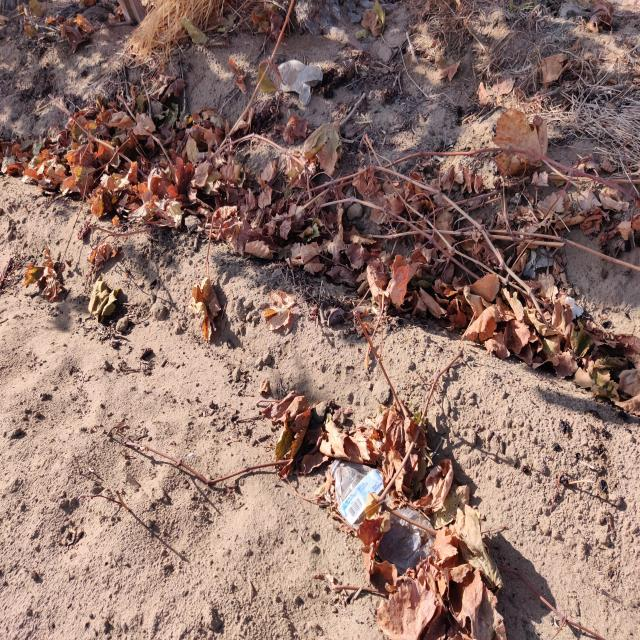litter: (328, 455, 436, 576)
